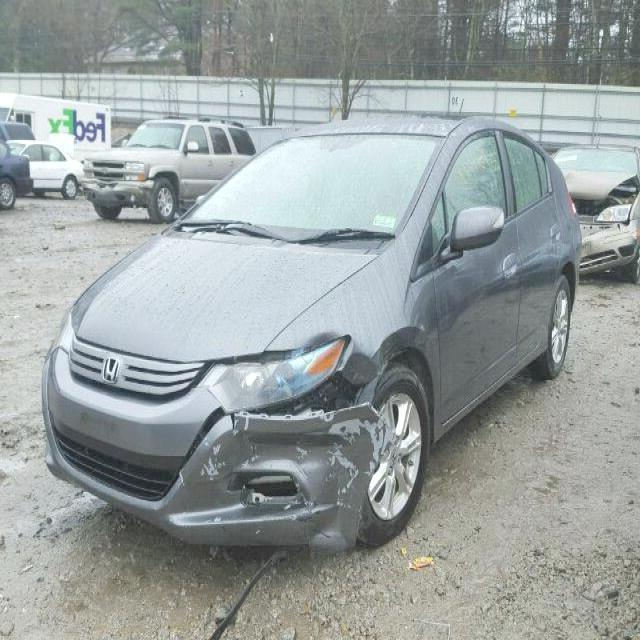minor: (174, 333, 398, 552)
